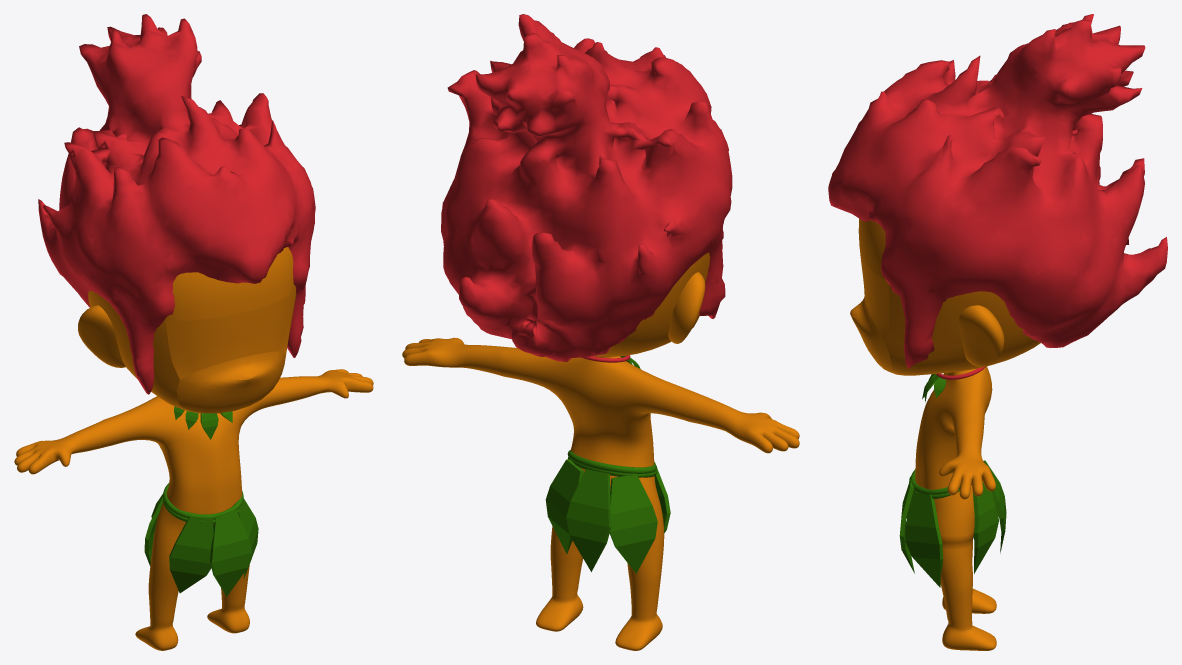
File: curupira.fbx
3 renders of one model, left to right at view 1: azimuth 30°, elevation 25°; view 2: azimuth 150°, elevation 25°; view 3: azimuth 270°, elevation 25°, orthographic. The views are drawn at different scales.
Visible parts, largest first — view 1: Torus.000; view 2: Torus.000; view 3: Torus.000.
Boxes of the visible parts, box(x1,y1,x2,y2) form: Torus.000: box(14, 14, 373, 650); Torus.000: box(402, 14, 799, 650); Torus.000: box(828, 14, 1167, 650).
Bounding box in the file's own units: 76.24 × 119 × 59.51.
